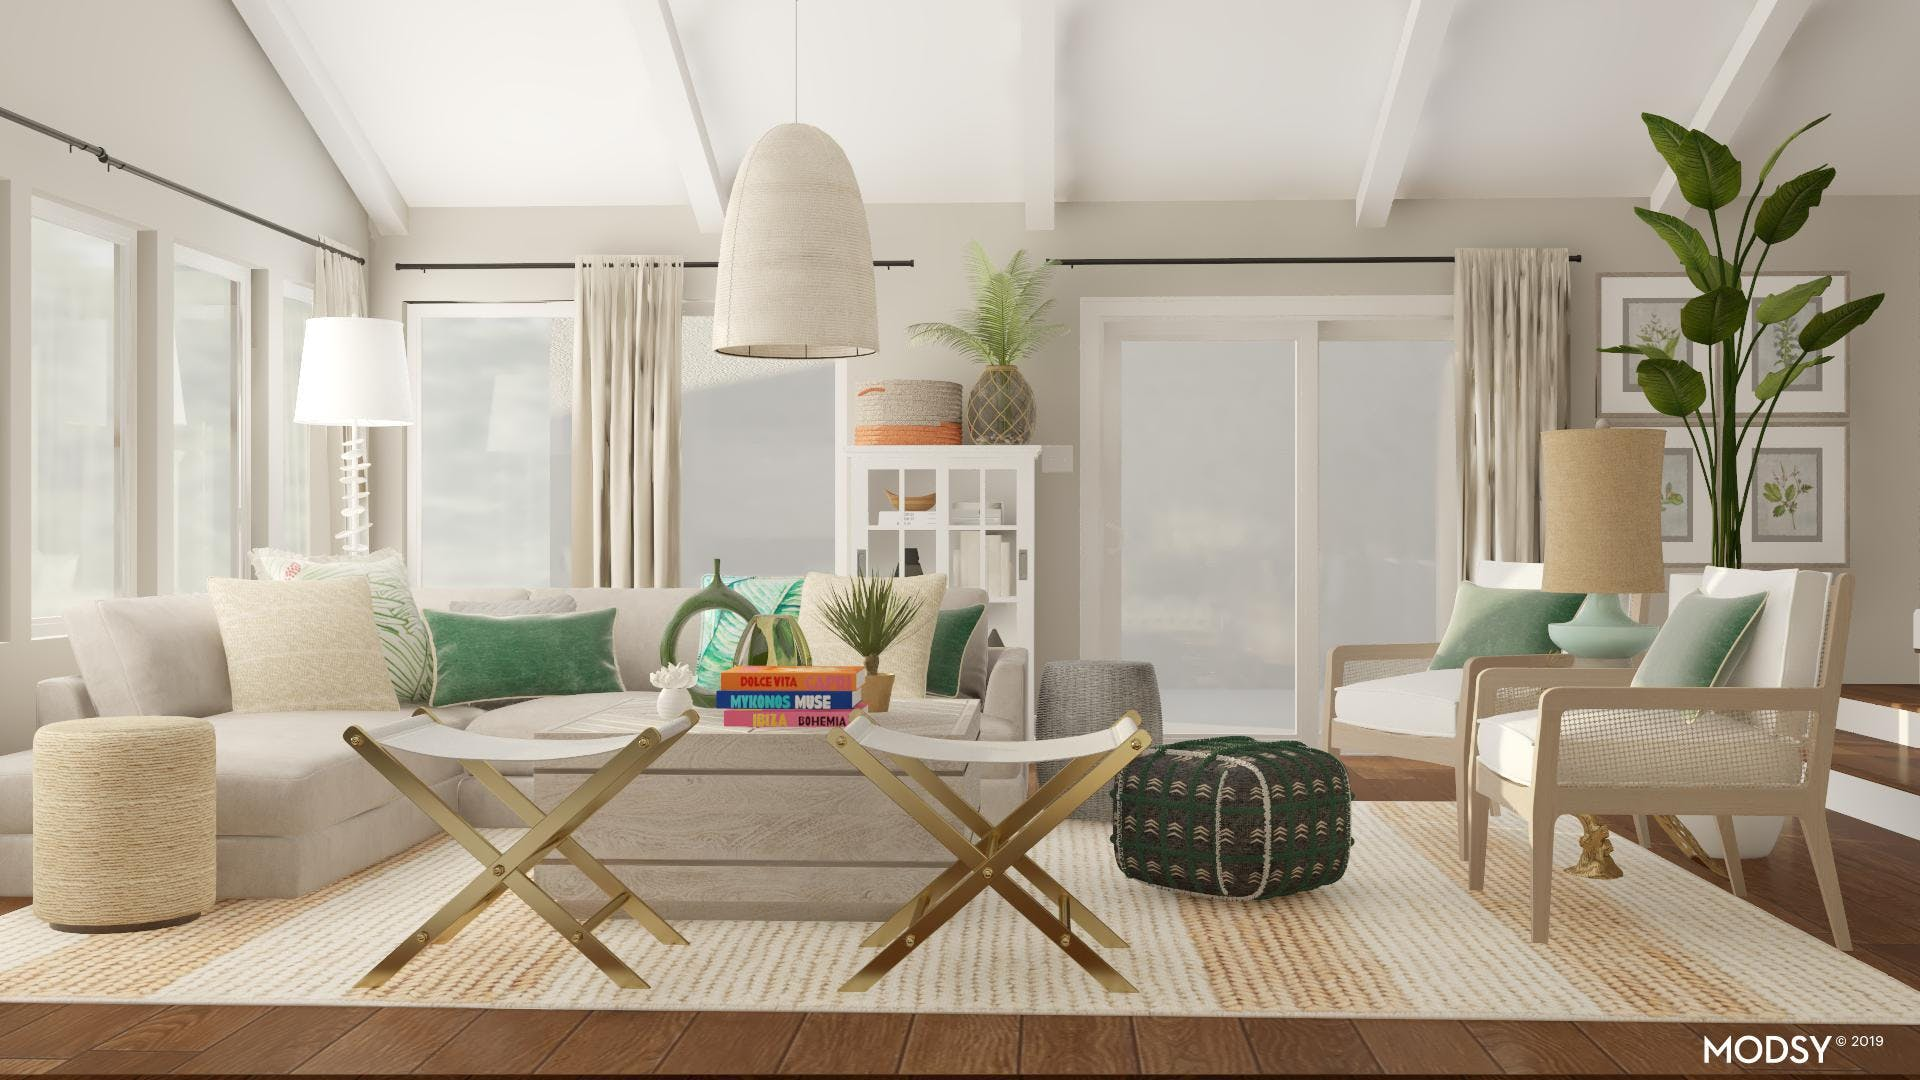hijau: (427, 613, 626, 686), (1444, 589, 1571, 663), (1648, 593, 1745, 676)
hitam: (1153, 735, 1346, 894)
putih: (709, 124, 882, 365), (211, 580, 382, 705), (289, 311, 415, 429)
